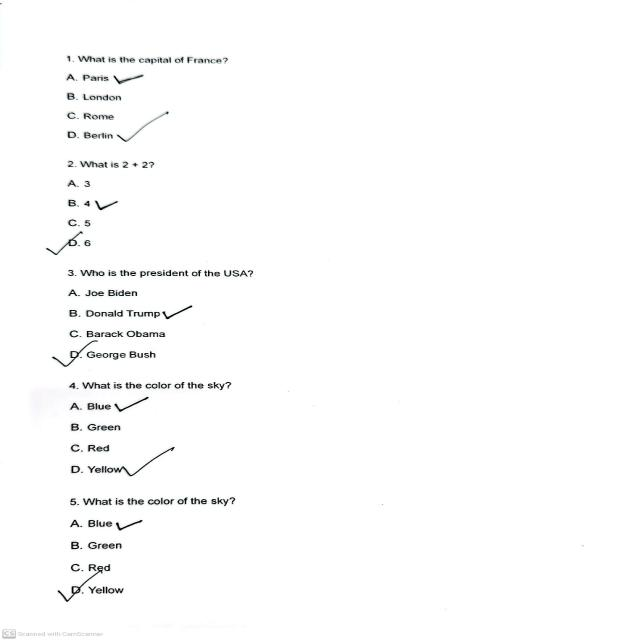Student_Ticked: (121, 110, 168, 143), (123, 448, 172, 478), (56, 338, 92, 369), (110, 69, 157, 90), (62, 577, 99, 602), (112, 394, 155, 415), (155, 303, 203, 321), (113, 513, 148, 533), (91, 194, 123, 213), (55, 232, 78, 254)
